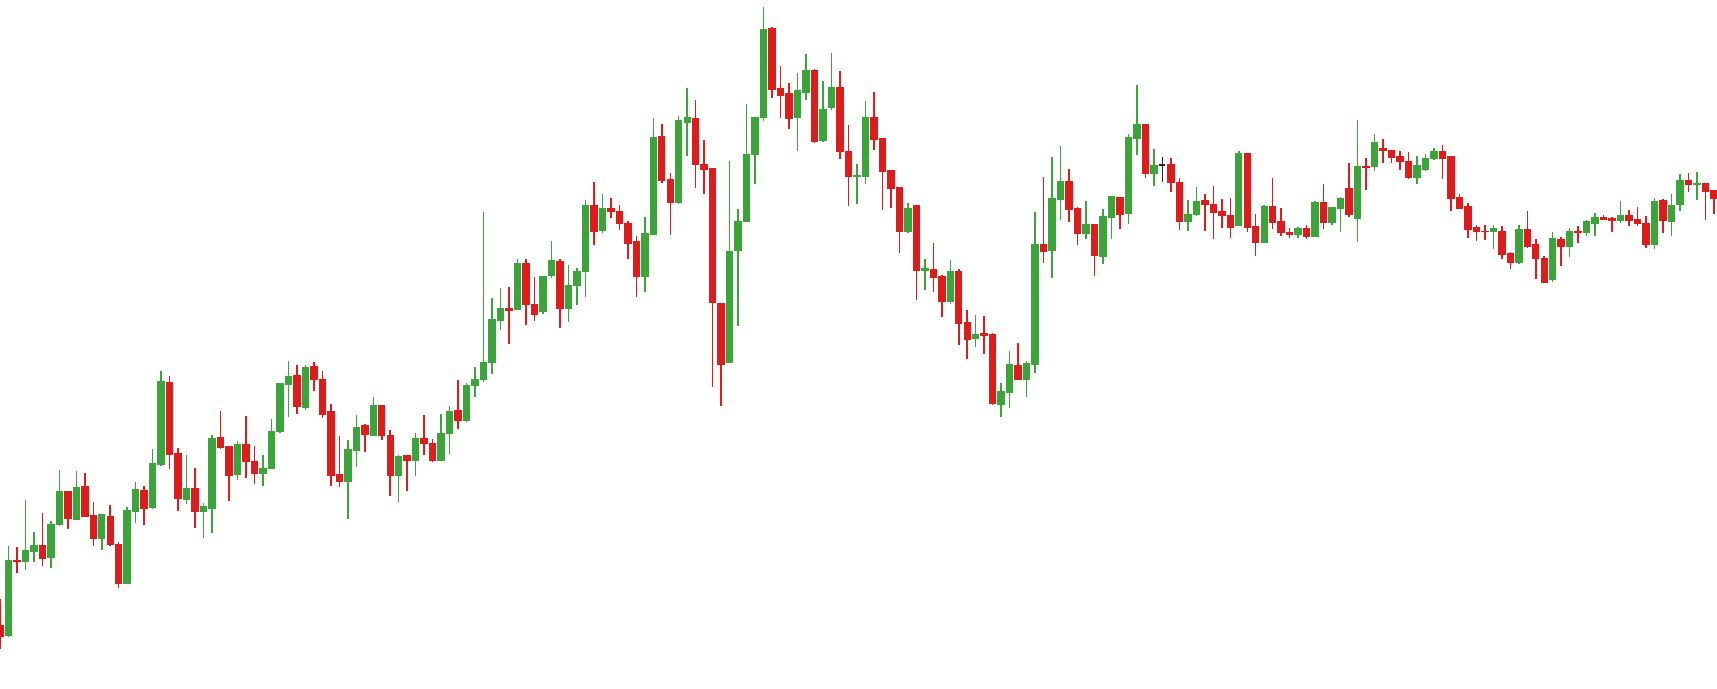buy: (553, 232, 736, 410), (250, 412, 353, 530)
sell: (683, 8, 776, 214), (1056, 87, 1150, 216)
